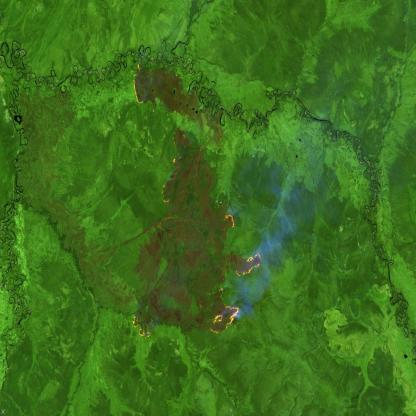fire: (211, 205, 262, 340), (158, 130, 183, 206), (128, 55, 145, 107), (130, 313, 153, 347)
